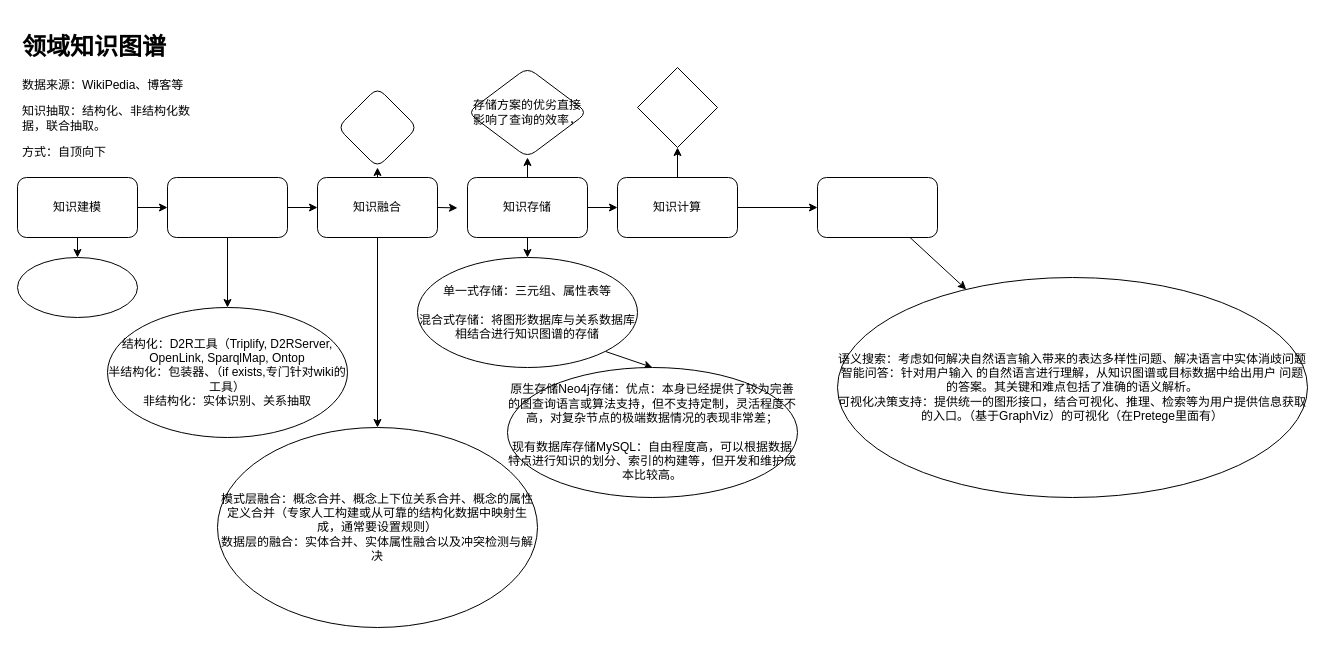
Image size: 1325x645. Some labels were removed from this diagram. Here are the shapes that lost their labels. From the top down, the centre of each, then its label:
point 377,127: 具体包含了知识对齐、合并
point 677,107: 例如：知识推理
point 227,207: 知识抽取
point 877,207: 知识应用
point 77,287: Protege
